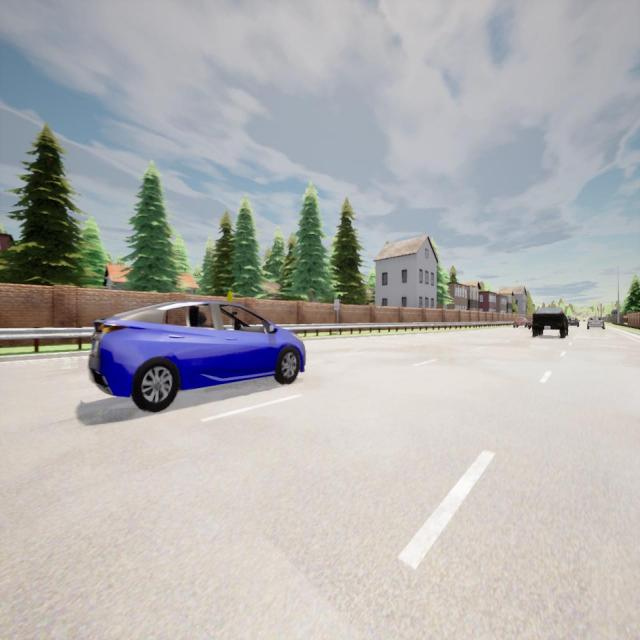Traffic_Signs: (333, 300, 340, 310)
Vehicle: (88, 299, 306, 412), (532, 307, 567, 338), (587, 315, 605, 330), (512, 317, 526, 327), (568, 316, 579, 328), (525, 321, 532, 329), (583, 319, 586, 321)
